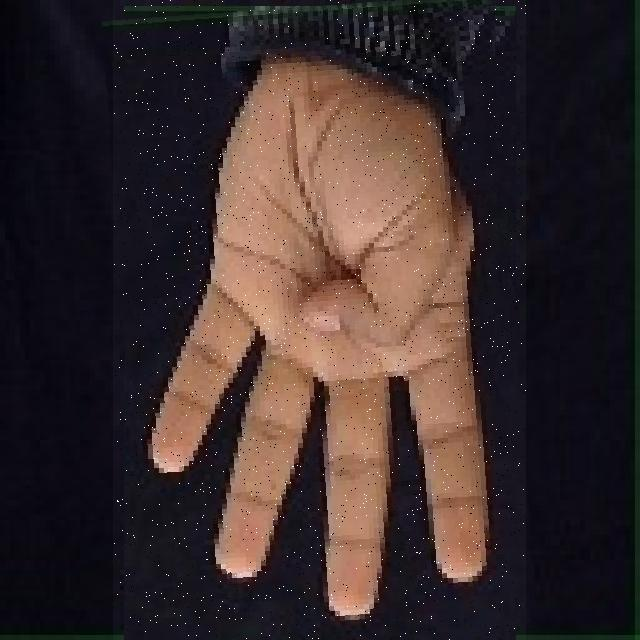Thanks: (113, 0, 526, 640)
